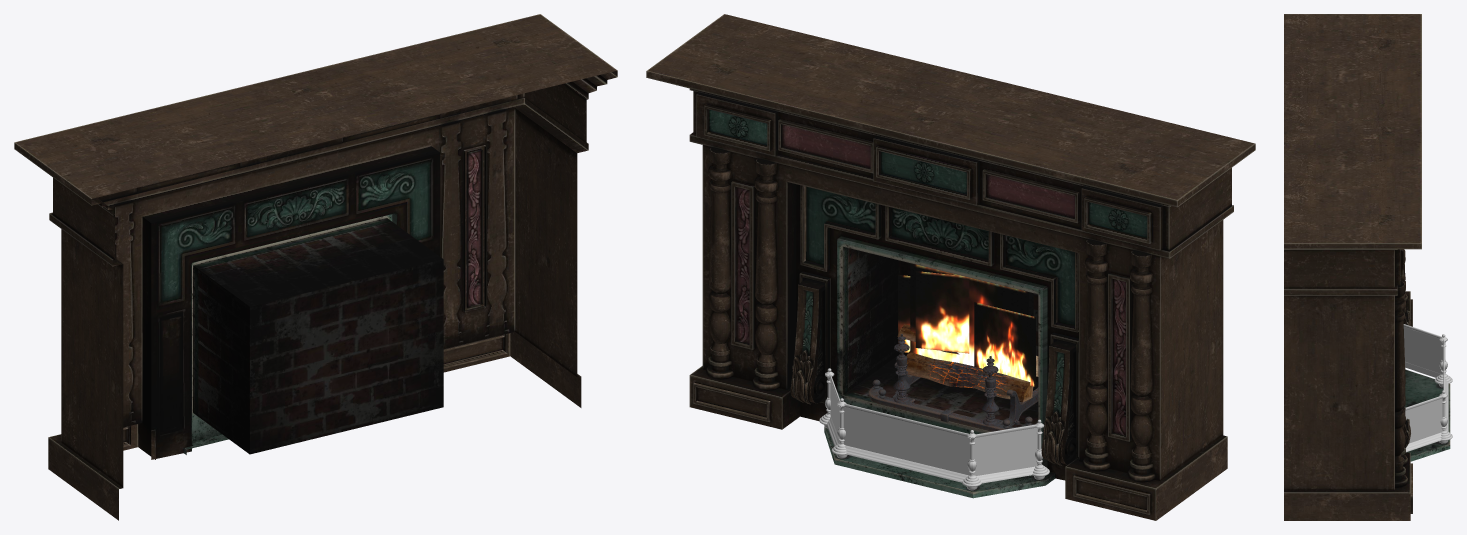
File: FirePlace.fbx
3 renders of one model, left to right at view 1: azimuth 30°, elevation 25°; view 2: azimuth 150°, elevation 25°; view 3: azimuth 270°, elevation 25°, orthographic. The views are drawn at different scales.
Parts seen in each view (by area): view 1: Fireplace; view 2: Fireplace, fireplace.001, fire_4, fire_1, fireplace, fire_3, wood_1, fire_2; view 3: Fireplace, fireplace.001.
Part boxes in pixels (x1,y1,x2,y2): Fireplace: (14,14,617,520); Fireplace: (646,14,1255,520); fireplace.001: (819,368,1049,490); fire_4: (915,271,1033,353); fire_1: (974,302,1035,386); fireplace: (868,334,1038,431); fire_3: (910,263,1028,366); wood_1: (906,351,1033,402); fire_2: (898,275,910,352); Fireplace: (1284,14,1450,520); fireplace.001: (1403,324,1452,452).
Size of the model in its own units: 745 by 445 by 232.
